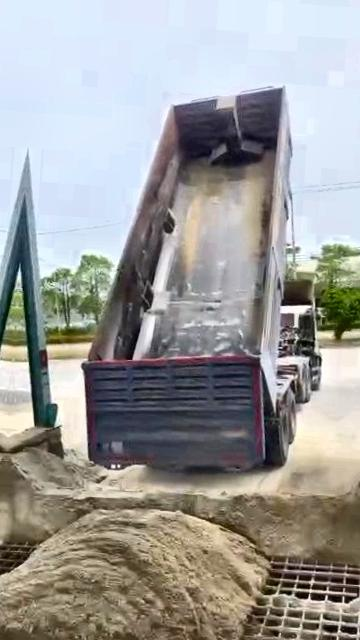sand: (3, 445, 360, 562), (0, 509, 267, 640), (268, 593, 360, 620)
